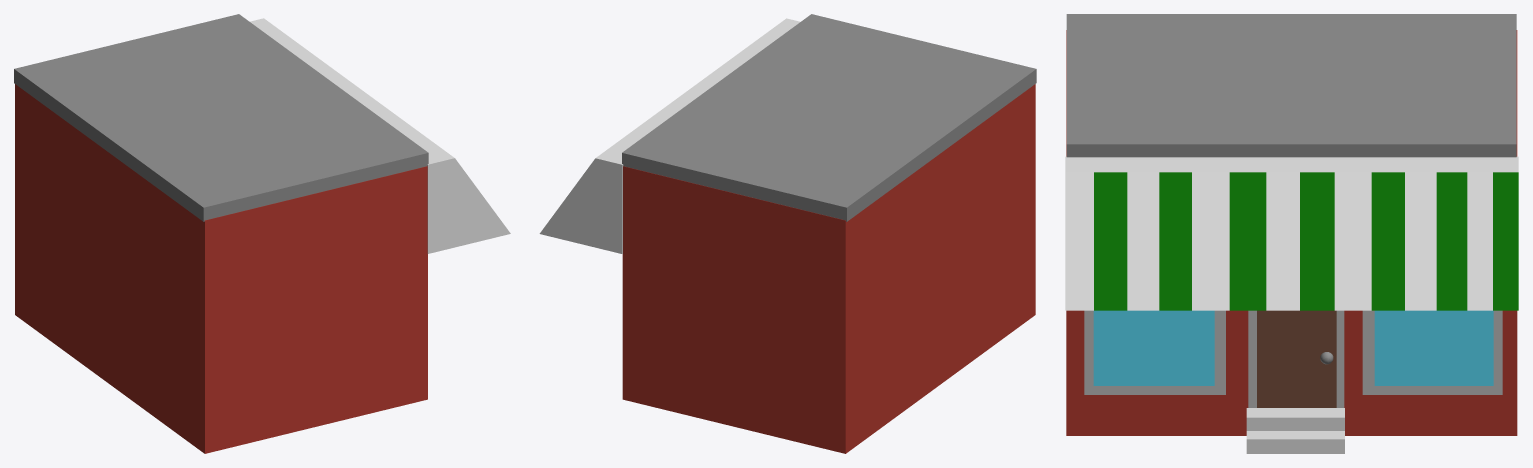
Rendered from RedBrickStorefront.fbx.
3 views of the same model, side by side, from view 1: azimuth 30°, elevation 25°; view 2: azimuth 150°, elevation 25°; view 3: azimuth 270°, elevation 25° (orthographic). The views are drawn at different scales.
Parts seen in each view (by area): view 1: Building, Cube, Canopy; view 2: Building, Cube, Canopy; view 3: Cube, Building, LeftWindow, RightWindow, Door, Canopy, WhiteStripe3, GreenStripe3, WhiteStripe5, GreenStripe4, GreenStripe1, WhiteStripe4 (+13 smaller).
Part boxes in pixels (x1,y1,x2,y2): Building: (15,84,427,453); Cube: (14,14,428,221); Canopy: (250,18,510,253); Building: (622,84,1035,453); Cube: (622,14,1036,221); Canopy: (539,18,800,253); Cube: (1066,14,1516,157); Building: (1066,30,1517,435); LeftWindow: (1093,310,1214,385); RightWindow: (1374,310,1493,385); Door: (1257,310,1336,407); Canopy: (1065,156,1518,172); WhiteStripe3: (1192,172,1229,310); GreenStripe3: (1229,172,1266,310); WhiteStripe5: (1334,172,1371,310); GreenStripe4: (1300,172,1334,310); GreenStripe1: (1094,172,1127,310); WhiteStripe4: (1266,172,1299,310).
Size of the model in its own units: 1348 by 1036 by 1455.
